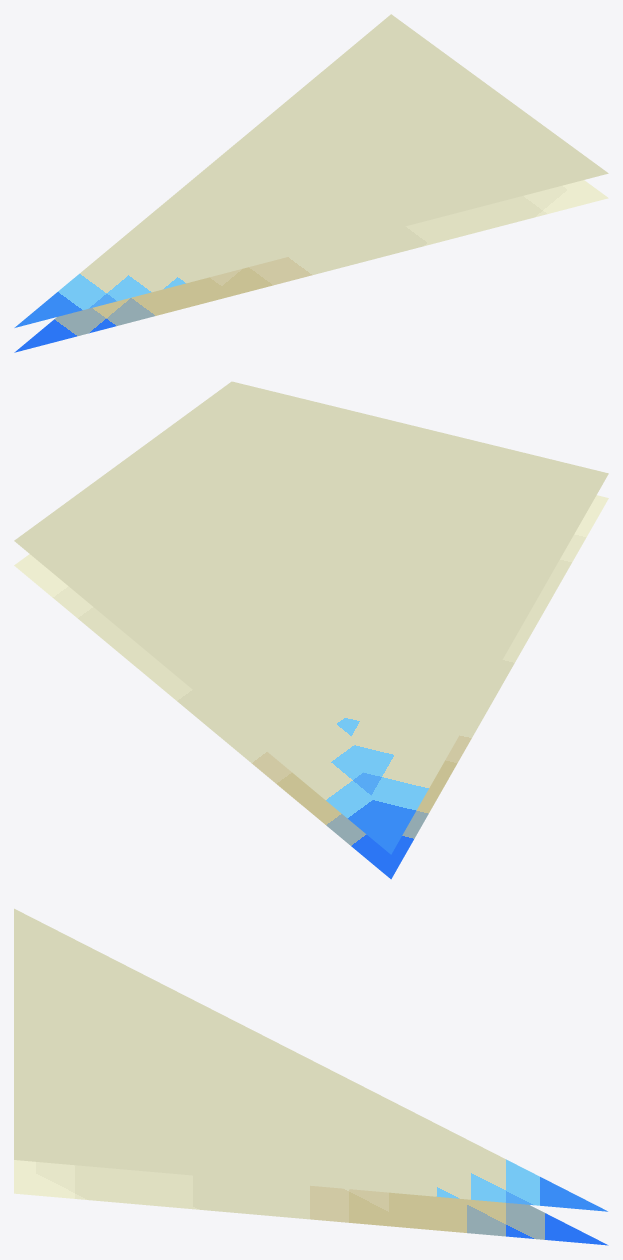
The model's file is rive-sable-edition-angle-left.glb.
3 renders of one model, top to bottom at view 1: azimuth 30°, elevation 25°; view 2: azimuth 150°, elevation 25°; view 3: azimuth 270°, elevation 25°, orthographic. The views are drawn at different scales.
Bounding box in the file's own units: 1 × 0.625 × 1.
2 materials, 2 textured.
